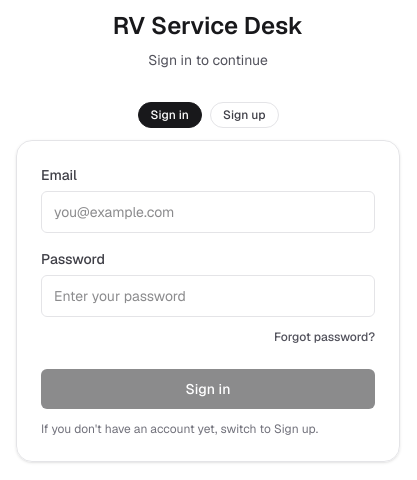
LoginScreen forgot-password flow › shows the generic confirmation state after requesting a reset email
The width and height of the screenshot is (417, 480).
Click the button with test id "forgot-password-link" at (324, 337), box 274,329 -> 375,345
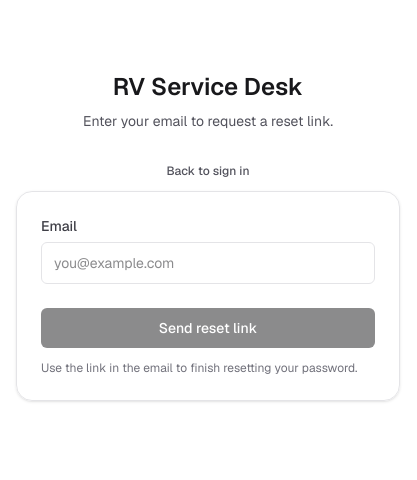
Type "user@example.com" into the field with test id "login-email-input" at (208, 263), box 41,242 -> 375,284
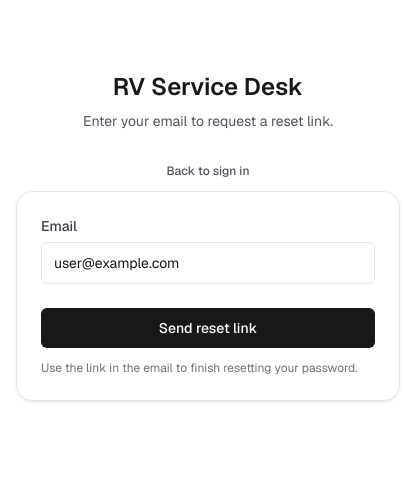
Click the button with test id "forgot-password-submit-button" at (208, 328), box 41,308 -> 375,348
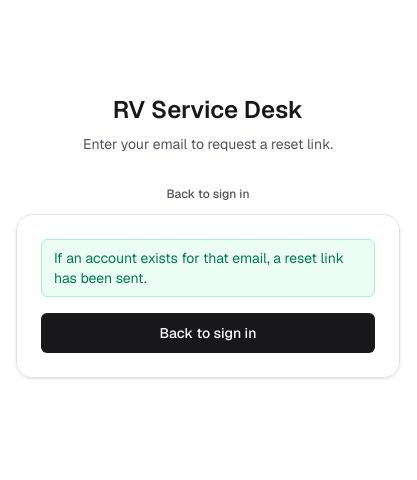
Now the text with test id "forgot-password-success-message" reads "If an account exists for that email, a reset link has been sent.", box 54,249 -> 344,287
Now the button with test id "forgot-password-back-to-sign-in" is shown, box 41,313 -> 375,353
